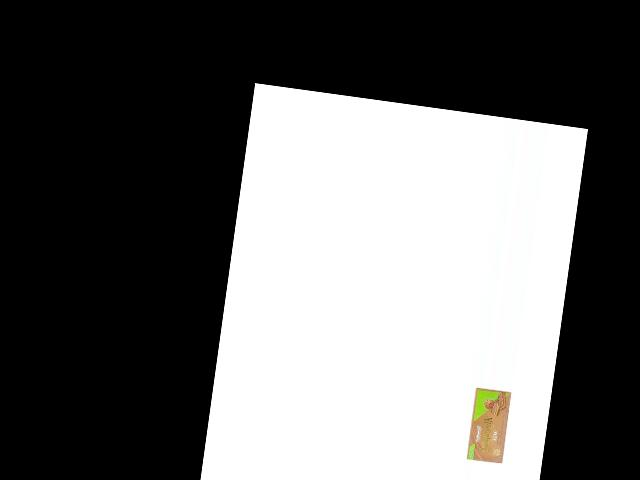chocolate: (464, 386, 515, 467)
